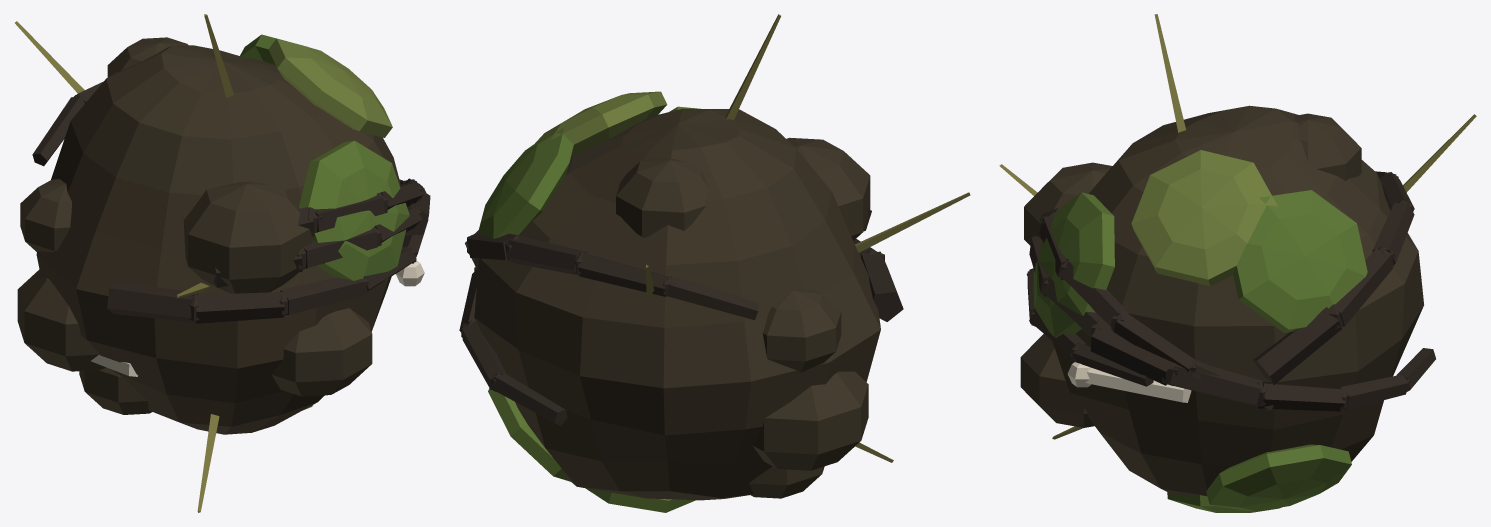
Rendered from mudball.glb.
3 views of the same model, side by side, from view 1: azimuth 30°, elevation 25°; view 2: azimuth 150°, elevation 25°; view 3: azimuth 270°, elevation 25° (orthographic). The views are drawn at different scales.
Visible parts, largest first — view 1: MudBall; view 2: MudBall; view 3: MudBall.
Boxes of the visible parts, x1,y1,x2,y2 form: MudBall: (15,14,430,512); MudBall: (459,14,970,512); MudBall: (999,14,1476,512).
Size of the model in its own units: 0.8613 by 1 by 0.9543.
